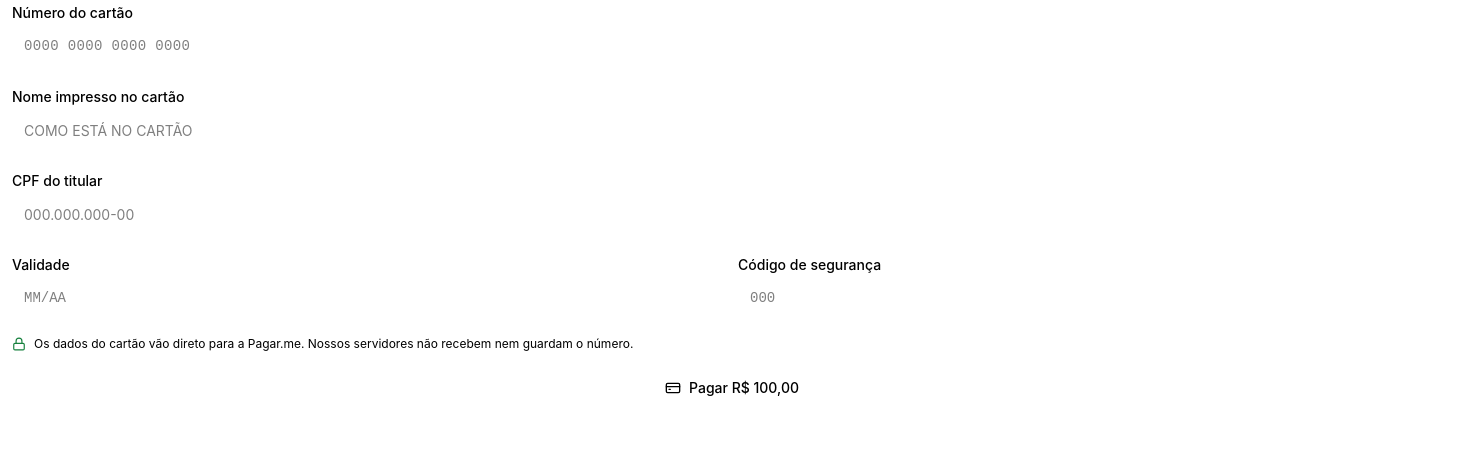
Test: PagarmeCardForm exit report › says the card was declined when the buyer leaves after a refusal
Expected: the button "Pagar R$ 100,00" is enabled, top-left (12, 368), bottom-right (1452, 408)
Type "4000 0000 0000 0010" into the field labelled "Número do cartão" at (732, 46), box top-left (12, 24), bottom-right (1452, 68)
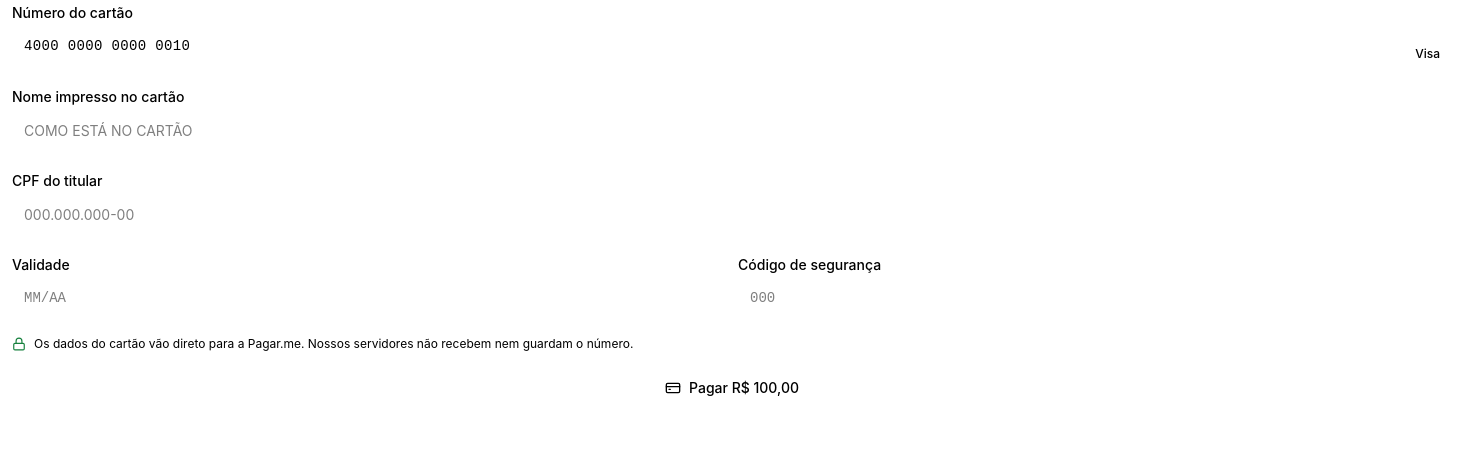
Type "MARIA DA SILVA" into the field labelled "Nome impresso no cartão" at (732, 130), box top-left (12, 108), bottom-right (1452, 152)
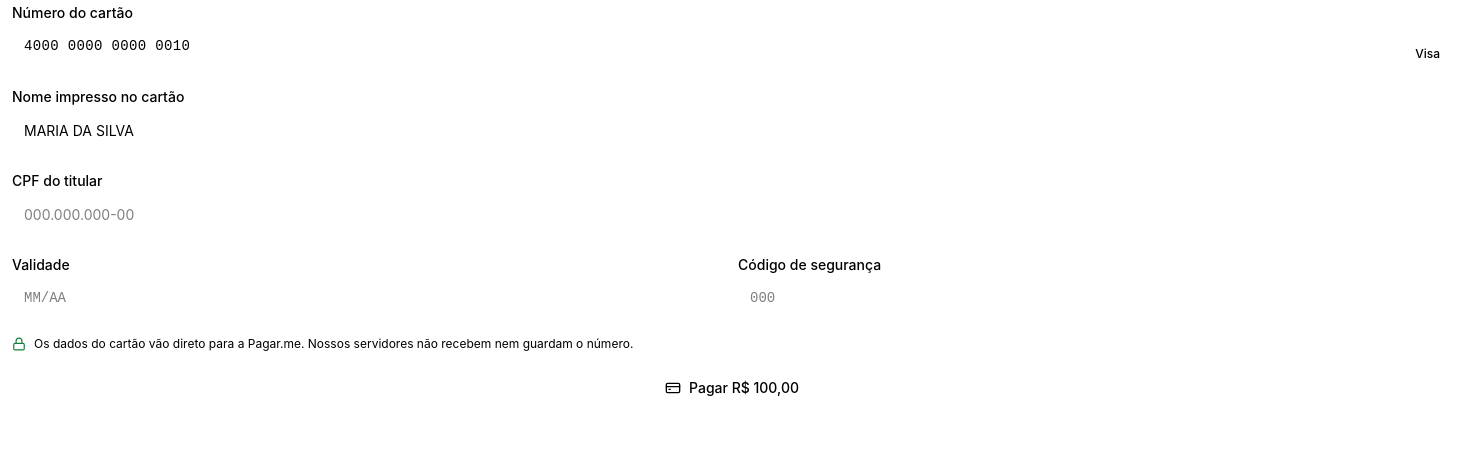
Type "52998224725" into the field labelled "CPF do titular" at (732, 214), box top-left (12, 192), bottom-right (1452, 236)
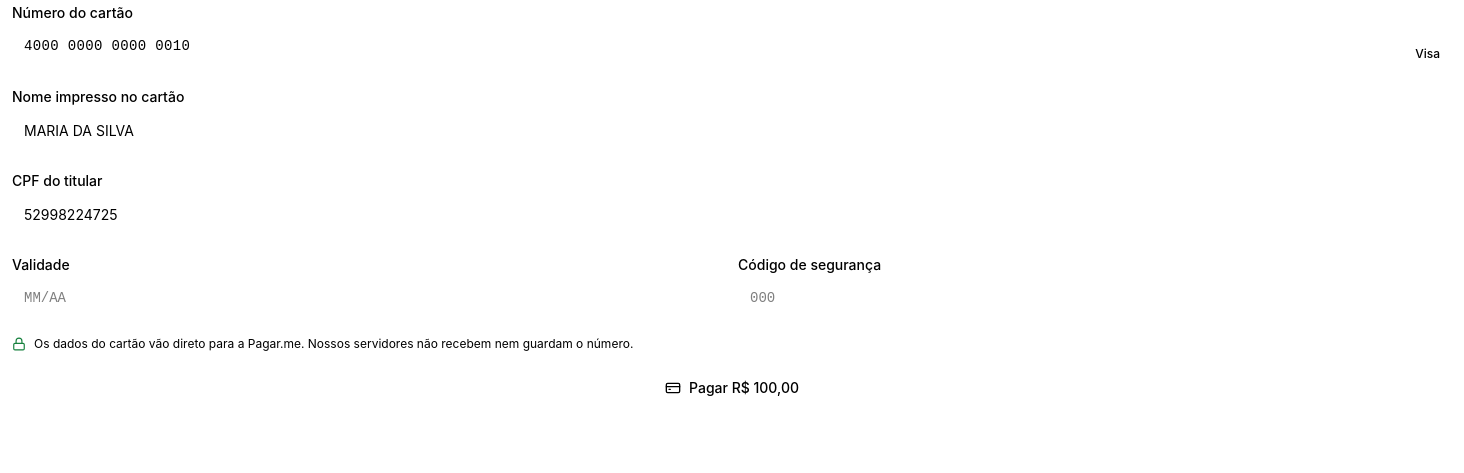
Type "12/30" into the field labelled "Validade" at (369, 298), box top-left (12, 276), bottom-right (726, 320)
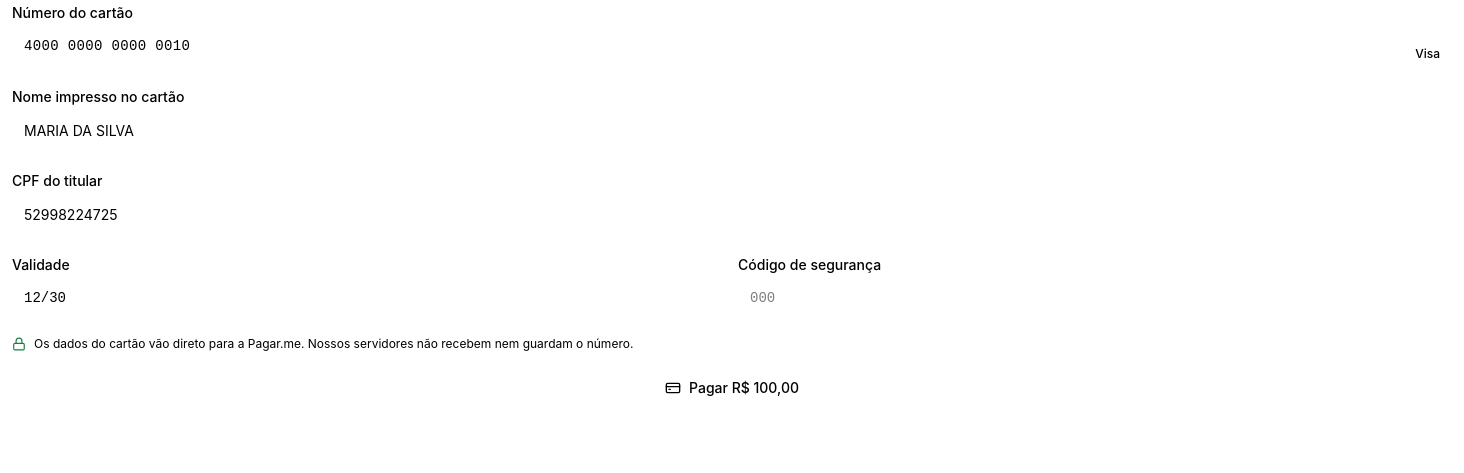
Type "123" into the field labelled "Código de segurança" at (1095, 298), box top-left (738, 276), bottom-right (1452, 320)
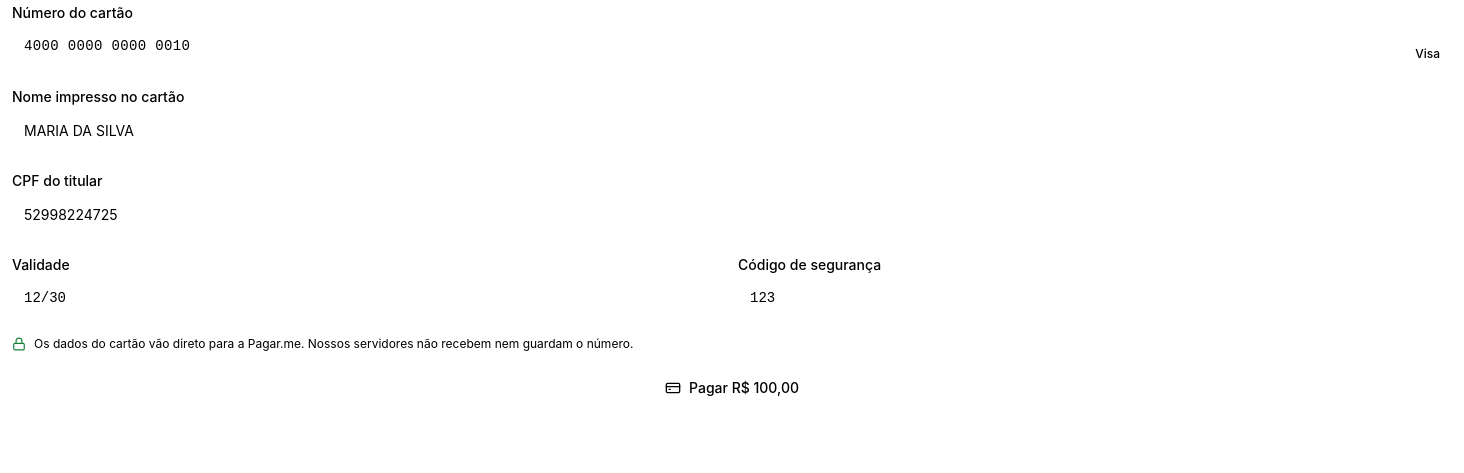
Click the button "Pagar R$ 100,00" at (732, 388), box top-left (12, 368), bottom-right (1452, 408)
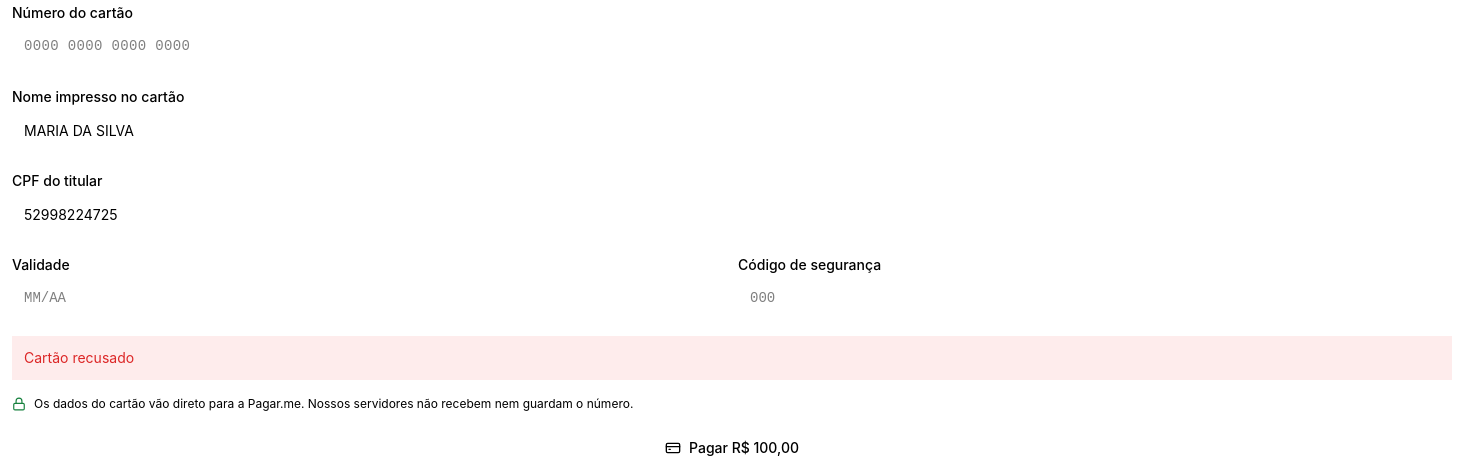
Expected: the text "Cartão recusado" is shown, top-left (12, 336), bottom-right (1452, 380)
